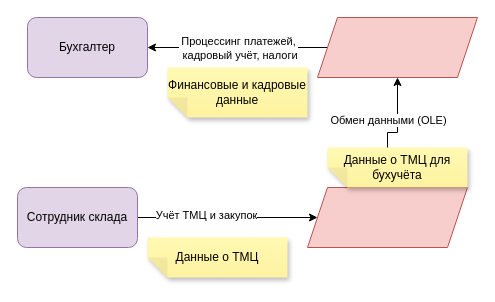
This 495x302 diagram has some shape labels left out. The centre of each missing label's shape, as x and y in pixels:
1С:Бухгалтерия предприятия: point 397,47
1С:Торговля и склад: point 387,217
